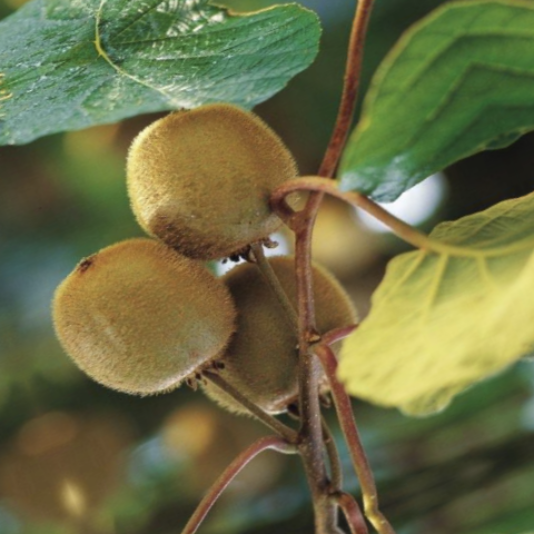kiwi: (78, 69, 338, 308), (145, 220, 382, 450), (19, 207, 262, 431)
